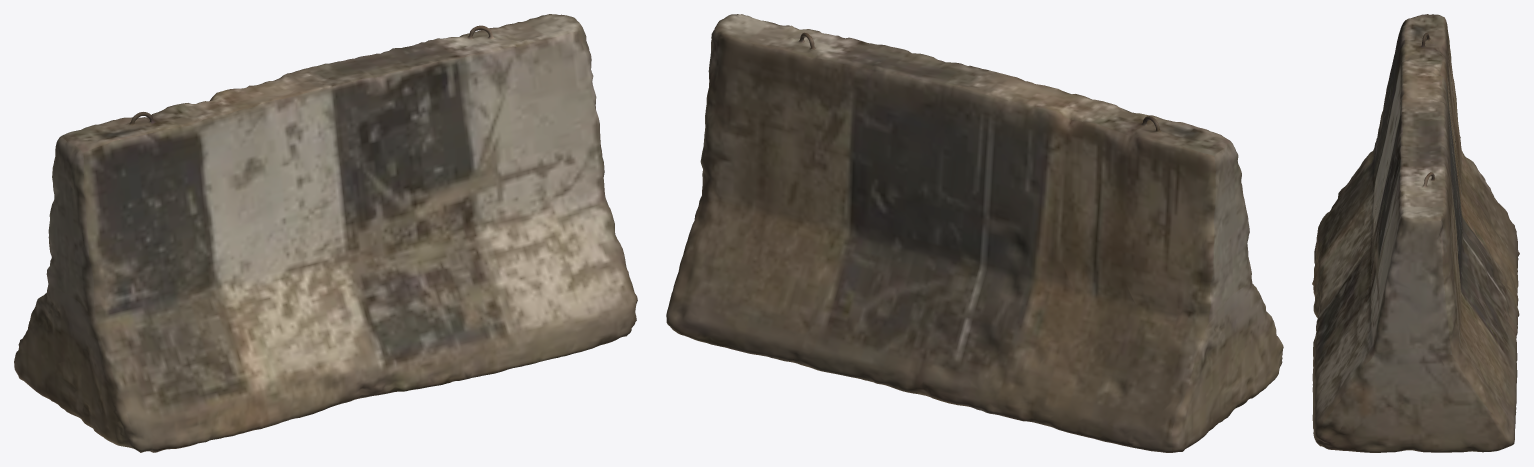
Rendered from concrete_road_barrier_lod1.glb.
3 views of the same model, side by side, from view 1: azimuth 30°, elevation 25°; view 2: azimuth 150°, elevation 25°; view 3: azimuth 270°, elevation 25° (orthographic). The views are drawn at different scales.
Parts seen in each view (by area): view 1: concrete_road_barrier; view 2: concrete_road_barrier; view 3: concrete_road_barrier.
Part boxes in pixels (bbox=[...]): concrete_road_barrier: bbox=[14, 14, 637, 452]; concrete_road_barrier: bbox=[666, 14, 1283, 452]; concrete_road_barrier: bbox=[1312, 14, 1519, 452].
Bounding box in the file's own units: 1.55 × 0.8309 × 0.6388.
1 material, 1 textured.
